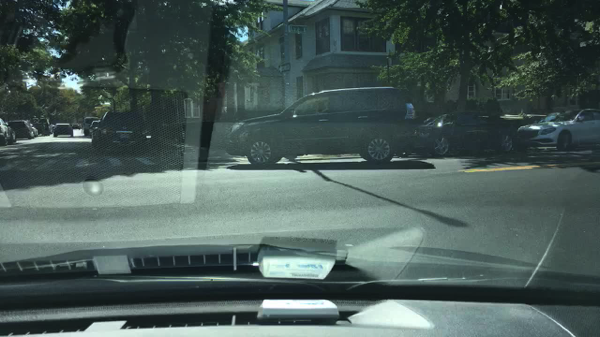car: (224, 87, 418, 169), (418, 111, 518, 157), (518, 108, 599, 150), (91, 111, 147, 153), (7, 120, 36, 139), (0, 117, 16, 146), (83, 116, 99, 137), (31, 122, 52, 137), (89, 120, 98, 138), (30, 124, 40, 139), (71, 123, 81, 130), (50, 125, 57, 135)
traffic sign: (289, 25, 307, 34), (278, 62, 289, 72)
